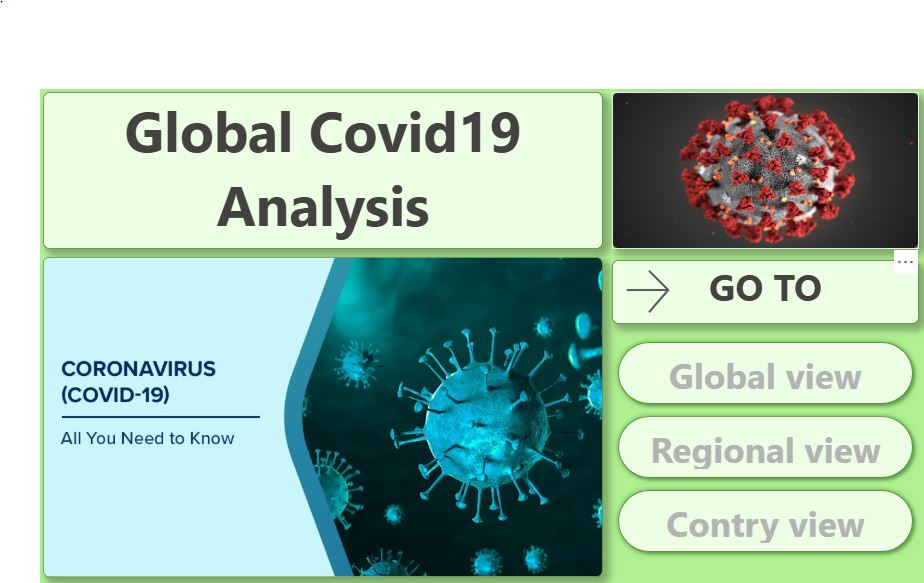

This screenshot's page, from the dashboard's own definition file:
{"tool":"powerbi","page":{"name":"Home","canvas":[1280,720],"ordinal":0},"visuals":[{"type":"textbox","box":[8.6,8.6,806.4,226.1],"z":1},{"type":"image","box":[8.6,246.2,806.4,460.8],"z":2},{"type":"textbox","box":[828,250,442.1,92.2],"z":3},{"type":"actionButton","box":[841,257.8,180,76.3],"z":4},{"type":"shape","box":[828,360,442.1,106.6],"z":5},{"type":"shape","box":[828,466.6,442.1,106.6],"z":6},{"type":"shape","box":[828,573.1,442.1,106.6],"z":7},{"type":"image","box":[828,9,442,226],"z":8}]}

Visuals, with their boxes on the page's 1280x720 design canvas (x1, y1, x2, y2). These are canvas units, not pixel positions in the 924x583 screenshot, which may show the page scaled, cropped or inside an application window:
textbox: pyautogui.locateOnScreen(9, 9, 815, 235)
image: pyautogui.locateOnScreen(9, 246, 815, 707)
textbox: pyautogui.locateOnScreen(828, 250, 1270, 342)
actionButton: pyautogui.locateOnScreen(841, 258, 1021, 334)
shape: pyautogui.locateOnScreen(828, 360, 1270, 467)
shape: pyautogui.locateOnScreen(828, 467, 1270, 573)
shape: pyautogui.locateOnScreen(828, 573, 1270, 680)
image: pyautogui.locateOnScreen(828, 9, 1270, 235)
